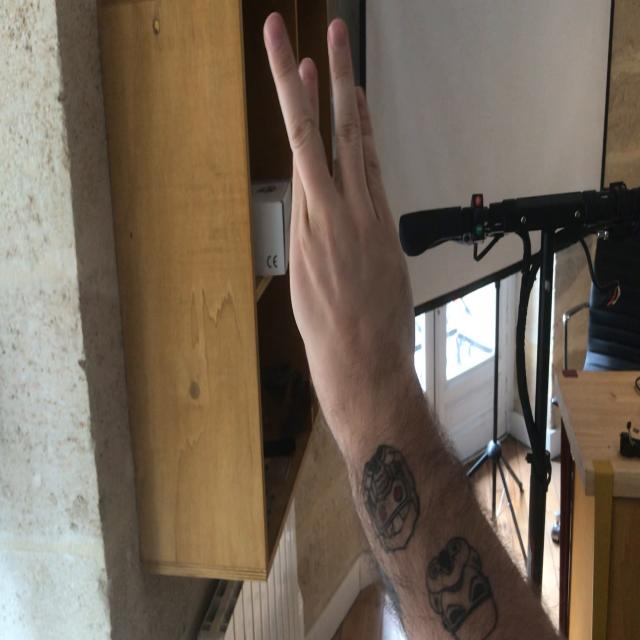hand: (261, 5, 416, 413)
